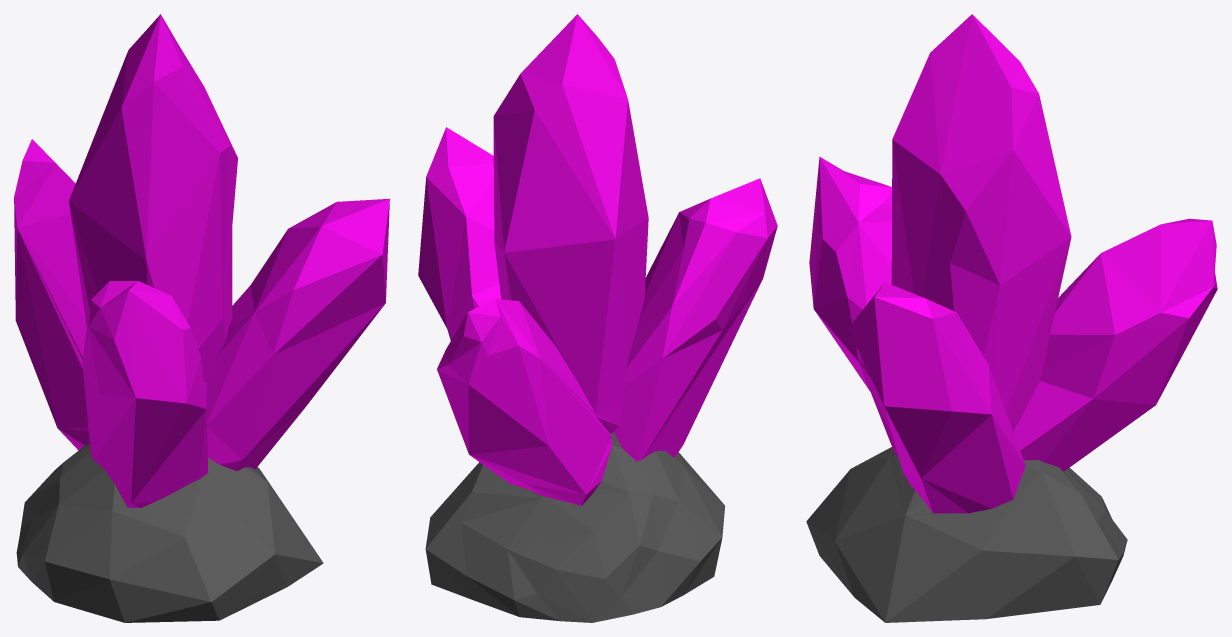
The model's file is CrystalCluster_2.fbx.
3 views of the same model, side by side, from view 1: azimuth 30°, elevation 25°; view 2: azimuth 150°, elevation 25°; view 3: azimuth 270°, elevation 25° (orthographic).
Visible parts, largest first — view 1: CrystalCluster_3; view 2: CrystalCluster_3; view 3: CrystalCluster_3.
Part boxes in pixels (left/top/right/bottom): CrystalCluster_3: left=14, top=14, right=389, bottom=622; CrystalCluster_3: left=418, top=14, right=777, bottom=622; CrystalCluster_3: left=806, top=14, right=1217, bottom=622.
Size of the model in its own units: 97.56 by 163 by 110.
